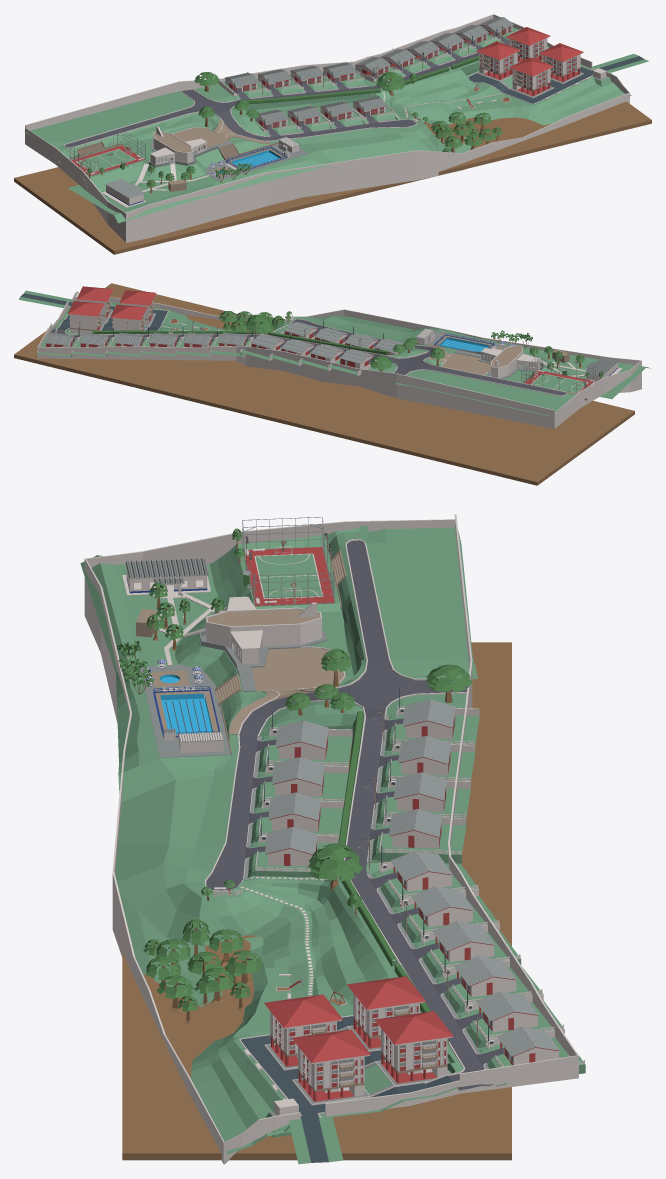
The model's file is santos_dumont_merged_clube_v2.gltf.
The picture shows the model from 3 angles, top to bottom: view 1: azimuth 30°, elevation 25°; view 2: azimuth 150°, elevation 25°; view 3: azimuth 270°, elevation 25°; orthographic projection. The views are drawn at different scales.
Parts seen in each view (by area): view 1: muro, grama, Length-310m, rua, clube-upper, clube-lower-plane, preio-telhado (×4), cerca-casa (×5), rua.002, quadra, cerca-viva, estacionamento (+6 smaller); view 2: Length-310m, muro, rua, grama, preio-telhado (×4), clube-lower-plane, rua.002, cerca-viva, quadra, estacionamento, clube-upper, guia (+6 smaller); view 3: grama, Length-310m, rua, cerca-casa (×14), muro, roof.001 (×14), clube-upper, clube-lower-plane, preio-telhado (×4), rua.002, quadra, rua.003 (+10 smaller).
Part boxes in pixels (x1,y1,x2,y2): muro: (25, 14, 629, 242); grama: (231, 60, 631, 168); Length-310m: (14, 101, 651, 254); rua: (24, 79, 416, 147); clube-upper: (55, 112, 270, 191); clube-lower-plane: (68, 154, 323, 223); preio-telhado (×4): (476, 27, 583, 76); cerca-casa (×5): (218, 80, 397, 136); rua.002: (468, 46, 648, 103); quadra: (71, 145, 144, 175); cerca-viva: (245, 55, 479, 103); estacionamento: (172, 119, 237, 147); Length-310m: (14, 283, 634, 485); muro: (37, 291, 641, 428); rua: (259, 319, 569, 416); grama: (66, 302, 430, 357); preio-telhado (×4): (67, 286, 155, 320); clube-lower-plane: (429, 327, 650, 399); rua.002: (18, 290, 167, 330); cerca-viva: (92, 330, 388, 354); quadra: (524, 370, 596, 394); estacionamento: (426, 352, 490, 374); clube-upper: (424, 346, 605, 399); guia: (405, 358, 567, 396); grama: (115, 701, 462, 1154); Length-310m: (122, 642, 511, 1160); rua: (206, 527, 477, 890); cerca-casa (×14): (243, 706, 585, 1086); muro: (84, 514, 578, 1164); roof.001 (×14): (264, 699, 559, 1056); clube-upper: (175, 525, 368, 734); clube-lower-plane: (80, 555, 228, 774); preio-telhado (×4): (264, 976, 453, 1063); rua.002: (241, 1016, 457, 1164); quadra: (244, 547, 334, 605); rua.003: (350, 875, 494, 1090).
Bounding box in the file's own units: 341 × 44.59 × 130.
